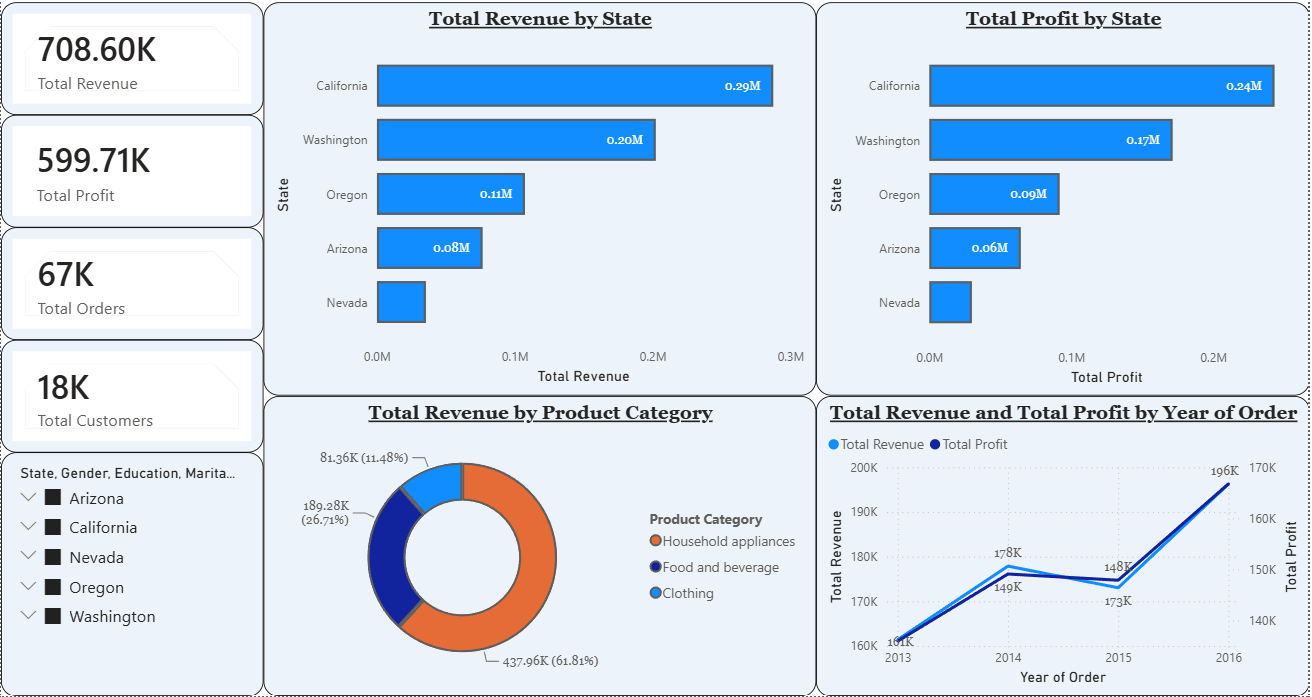

The page's visual inventory and layout, read from the dashboard file:
{"tool":"powerbi","page":{"name":"Executive Dashboard","canvas":[1280,720],"ordinal":0},"visuals":[{"type":"cardVisual","fields":{"Data":["Orders.Total Revenue"]},"box":[0,40.4,256.8,110.1],"z":0},{"type":"cardVisual","fields":{"Data":["Orders.Total Profit"]},"box":[0,150.4,256.8,110.1],"z":1000},{"type":"cardVisual","fields":{"Data":["Orders.Total Orders"]},"box":[0,260.5,256.8,110.1],"z":2000},{"type":"cardVisual","fields":{"Data":["Orders.Total Customers"]},"box":[0,370.5,256.8,110.1],"z":3000},{"type":"clusteredBarChart","fields":{"Y":["Orders.Total Revenue"],"Category":["Orders.State"]},"box":[256.2,40.8,540.5,385],"z":4000},{"type":"clusteredBarChart","fields":{"Y":["Orders.Total Profit"],"Category":["Orders.State"]},"box":[797.3,40.4,483,385.2],"z":5000},{"type":"donutChart","fields":{"Category":["Orders.Product Category"],"Y":["Orders.Total Revenue"]},"box":[256.8,425.5,540.5,294.7],"z":6000},{"type":"lineChart","fields":{"Category":["Orders.Year of Order"],"Y":["Orders.Total Revenue"],"Y2":["Orders.Total Profit"]},"box":[797.3,425.5,483,294.7],"z":7000},{"type":"slicer","fields":{"Values":["Orders.State","Orders.Gender","Customers.Education","Customers.Marital Status"]},"box":[0,481,257,239],"z":8000}]}

Visuals, with their boxes in screenshot pixels (x1, y1, x2, y2):
cardVisual - Orders.Total Revenue: [0,0,260,110]
cardVisual - Orders.Total Profit: [0,110,260,223]
cardVisual - Orders.Total Orders: [0,223,260,336]
cardVisual - Orders.Total Customers: [0,336,260,449]
clusteredBarChart - Orders.Total Revenue x Orders.State: [259,0,814,393]
clusteredBarChart - Orders.Total Profit x Orders.State: [815,0,1310,392]
donutChart - Orders.Product Category x Orders.Total Revenue: [260,392,815,695]
lineChart - Orders.Year of Order x Orders.Total Revenue: [815,392,1310,695]
slicer - Orders.State x Orders.Gender: [0,449,260,694]
